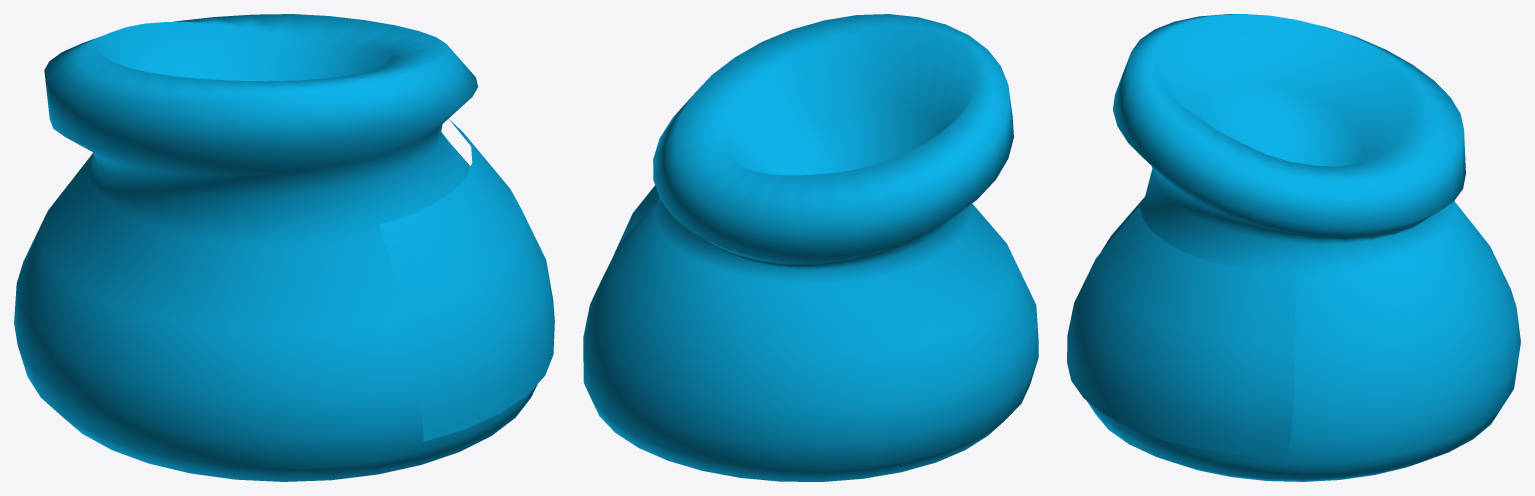
File: DirtNest.fbx
The picture shows the model from 3 angles, left to right: view 1: azimuth 30°, elevation 25°; view 2: azimuth 150°, elevation 25°; view 3: azimuth 270°, elevation 25°; orthographic projection. The views are drawn at different scales.
Visible parts, largest first — view 1: Dropling.003, Face; view 2: Dropling.003, Face; view 3: Dropling.003, Face.
Part boxes in pixels (left/top/right/bottom): Dropling.003: left=14, top=14, right=537, bottom=481; Face: left=379, top=119, right=554, bottom=441; Dropling.003: left=583, top=14, right=1038, bottom=481; Face: left=614, top=185, right=659, bottom=254; Dropling.003: left=1086, top=14, right=1520, bottom=481; Face: left=1067, top=206, right=1295, bottom=457.
Bounding box in the file's own units: 119 × 96.17 × 119.
